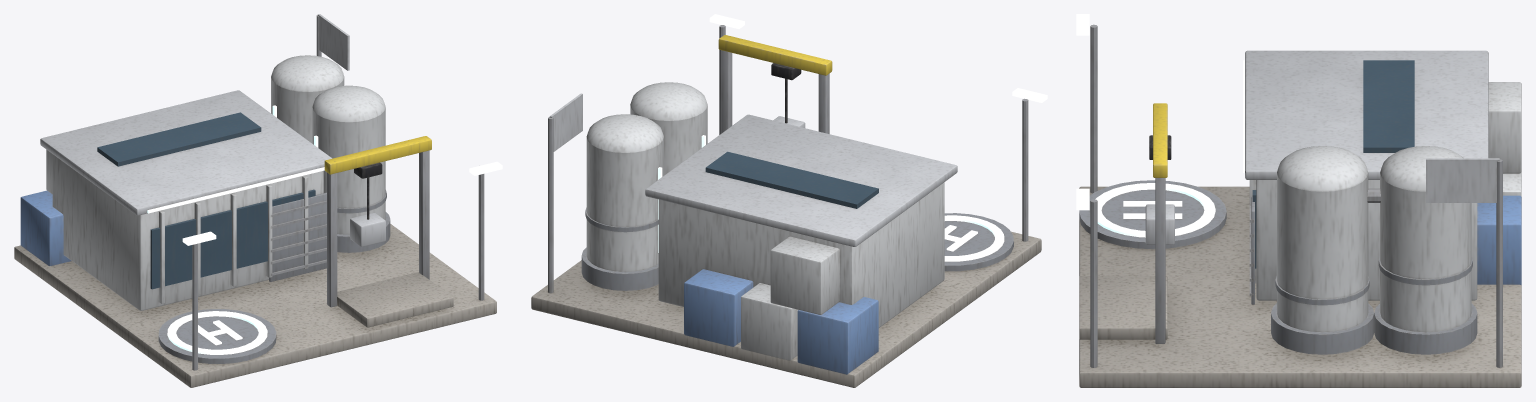
Rendered from west_supply.glb.
3 views of the same model, side by side, from view 1: azimuth 30°, elevation 25°; view 2: azimuth 150°, elevation 25°; view 3: azimuth 270°, elevation 25° (orthographic). The views are drawn at different scales.
Visible parts, largest first — view 1: Hull; view 2: Hull; view 3: Hull.
Boxes of the visible parts, bbox=[...] form: Hull: bbox=[14, 14, 502, 387]; Hull: bbox=[531, 14, 1047, 387]; Hull: bbox=[1076, 14, 1521, 387].
Bounding box in the file's own units: 6.15 × 3.35 × 6.04.
Materials: 11 (11 with a texture image).
